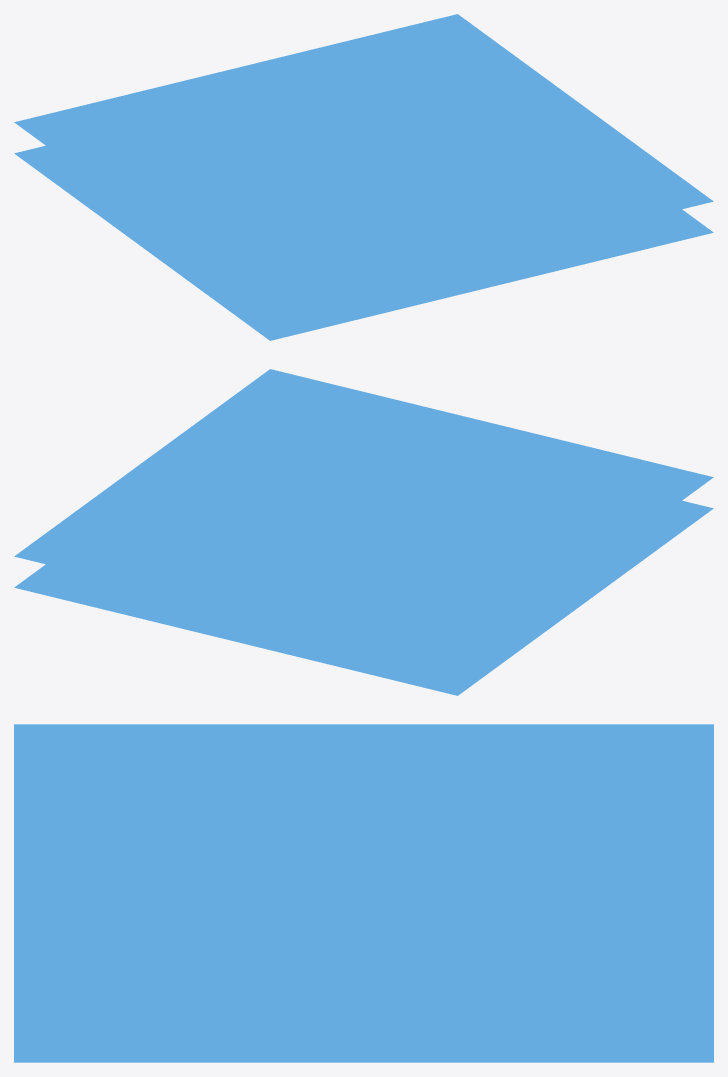
Rendered from SpawnPointRippleRing.fbx.
The picture shows the model from 3 angles, top to bottom: view 1: azimuth 30°, elevation 25°; view 2: azimuth 150°, elevation 25°; view 3: azimuth 270°, elevation 25°; orthographic projection. The views are drawn at different scales.
Visible parts, largest first — view 1: PinkRing, SpawnPointRippleRing; view 2: PinkRing, SpawnPointRippleRing; view 3: PinkRing, SpawnPointRippleRing.
Boxes of the visible parts, x1,y1,x2,y2 form: PinkRing: (14, 14, 713, 309); SpawnPointRippleRing: (14, 145, 713, 340); PinkRing: (14, 369, 713, 664); SpawnPointRippleRing: (14, 500, 713, 695); PinkRing: (14, 724, 713, 1019); SpawnPointRippleRing: (14, 1020, 713, 1062).
Bounding box in the file's own units: 10 × 0.67 × 10.
